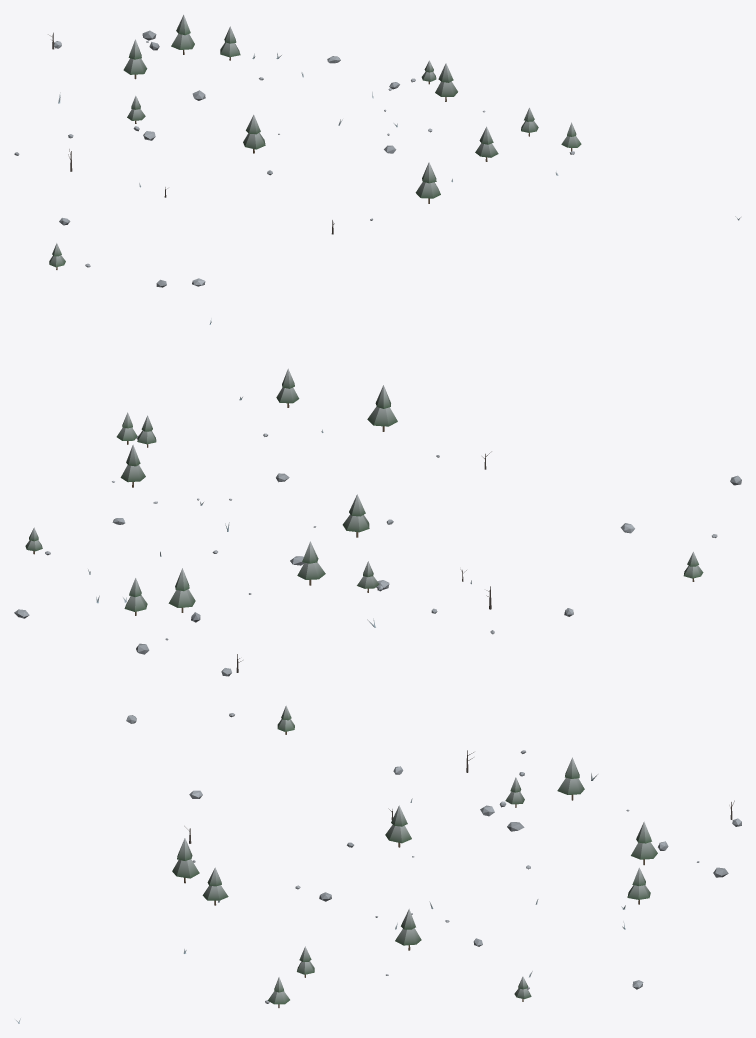
The model's file is frost_land_scatter_c20_12_lod1.glb.
3 renders of one model, top to bottom at view 1: azimuth 30°, elevation 25°; view 2: azimuth 150°, elevation 25°; view 3: azimuth 270°, elevation 25°, orthographic. The views are drawn at different scales.
Visible parts, largest first — view 1: frost_land_scatter_c20_12_lod1; view 2: frost_land_scatter_c20_12_lod1; view 3: frost_land_scatter_c20_12_lod1.
Part boxes in pixels (x1,y1,x2,y2): frost_land_scatter_c20_12_lod1: (14, 14, 740, 287); frost_land_scatter_c20_12_lod1: (14, 318, 741, 676); frost_land_scatter_c20_12_lod1: (15, 705, 741, 1023).
Bounding box in the file's own units: 203 × 35.13 × 210.
